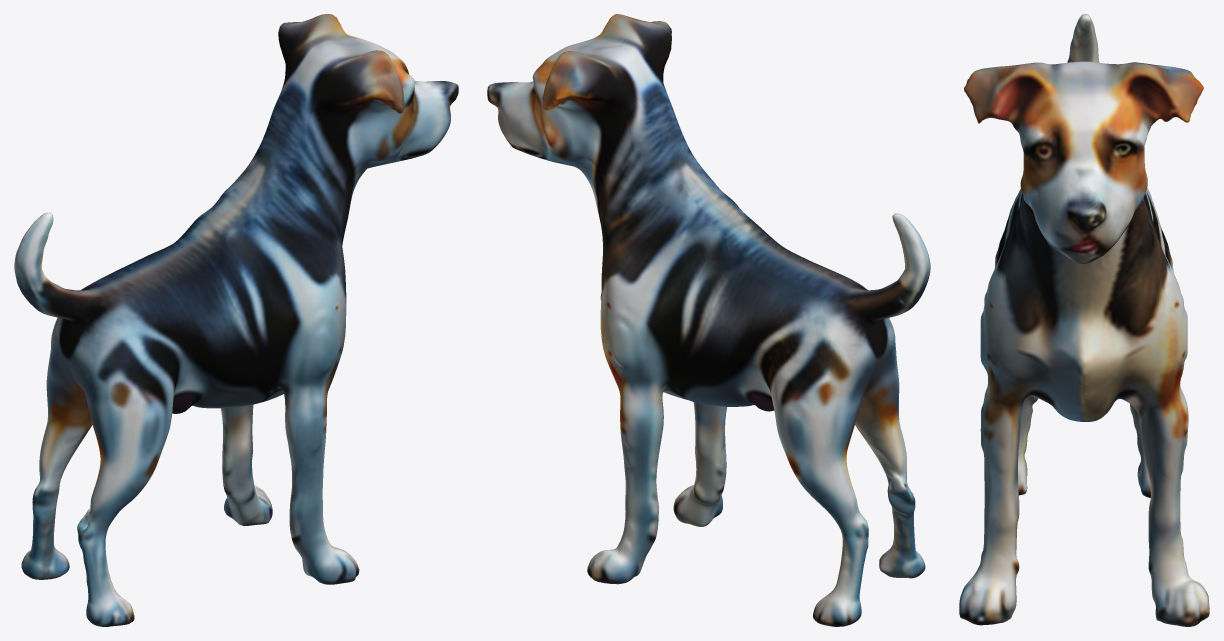
Rendered from 2800409c-1843-429c-aec2-89f3530c3fc1.glb.
3 views of the same model, side by side, from view 1: azimuth 30°, elevation 25°; view 2: azimuth 150°, elevation 25°; view 3: azimuth 270°, elevation 25° (orthographic). The views are drawn at different scales.
Parts seen in each view (by area): view 1: tripo_node_2800409c-1843-429c-aec2-89f3530c3fc1; view 2: tripo_node_2800409c-1843-429c-aec2-89f3530c3fc1; view 3: tripo_node_2800409c-1843-429c-aec2-89f3530c3fc1.
Boxes of the visible parts, x1,y1,x2,y2 form: tripo_node_2800409c-1843-429c-aec2-89f3530c3fc1: [14, 14, 458, 626]; tripo_node_2800409c-1843-429c-aec2-89f3530c3fc1: [487, 14, 930, 626]; tripo_node_2800409c-1843-429c-aec2-89f3530c3fc1: [959, 14, 1209, 626].
Bounding box in the file's own units: 0.7224 × 0.7817 × 0.3034.
Materials: 1 (1 with a texture image).
